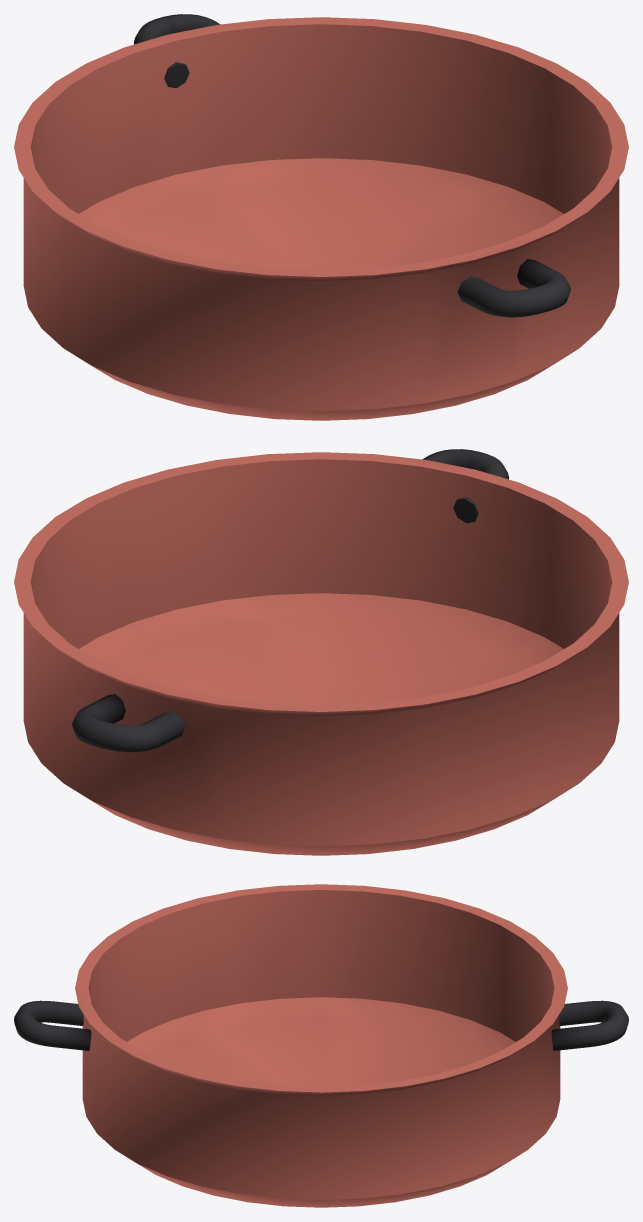
Rendered from nd_cooking_pot.glb.
3 renders of one model, top to bottom at view 1: azimuth 30°, elevation 25°; view 2: azimuth 150°, elevation 25°; view 3: azimuth 270°, elevation 25°, orthographic. The views are drawn at different scales.
Visible parts, largest first — view 1: PART; view 2: PART; view 3: PART.
Part boxes in pixels (x1,y1,x2,y2): PART: [14, 14, 628, 420]; PART: [14, 449, 628, 855]; PART: [14, 884, 628, 1207].
Size of the model in its own units: 0.258 by 0.074 by 0.3219.
